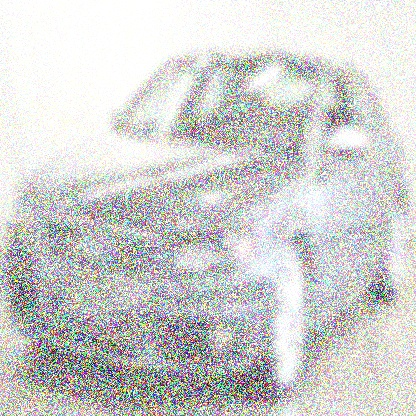Vehicle: (2, 44, 409, 394)
